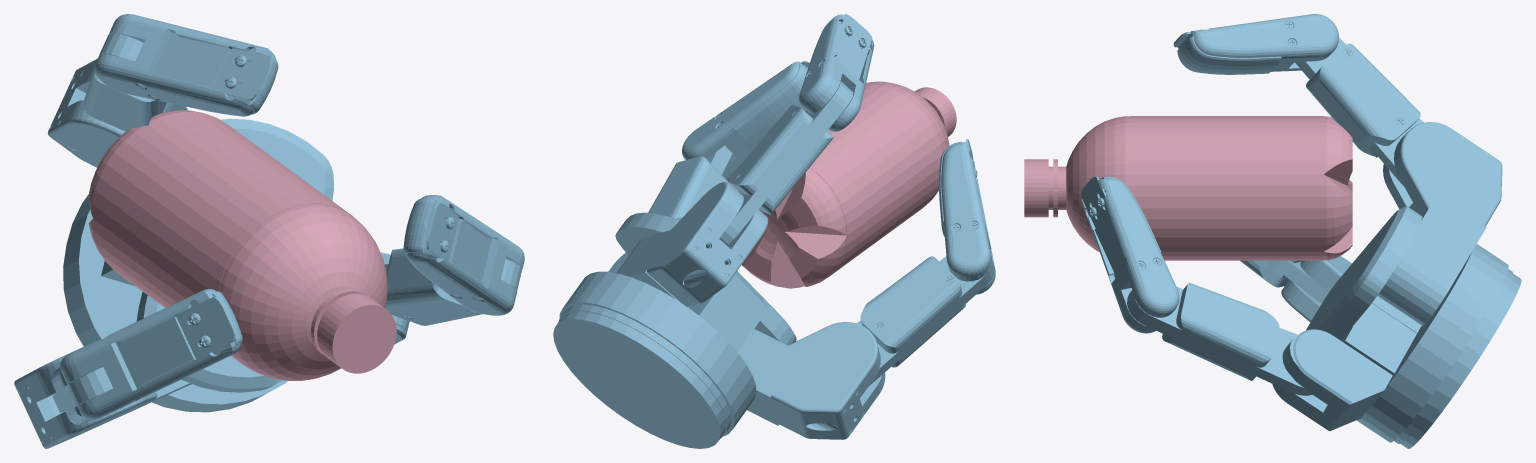
The picture shows the model from 3 angles, left to right: view 1: azimuth 30°, elevation 25°; view 2: azimuth 150°, elevation 25°; view 3: azimuth 270°, elevation 25°; orthographic projection. The views are drawn at different scales.
Parts seen in each view (by area): view 1: world, water_bottle.stl; view 2: world, water_bottle.stl; view 3: world, water_bottle.stl.
Boxes of the visible parts, <box> form: world: <box>14,14,524,448</box>; water_bottle.stl: <box>88,110,396,380</box>; world: <box>553,14,995,448</box>; water_bottle.stl: <box>728,81,956,288</box>; world: <box>1081,14,1521,448</box>; water_bottle.stl: <box>1024,116,1352,260</box>.
Size of the model in its own units: 0.1624 by 0.172 by 0.2068.
